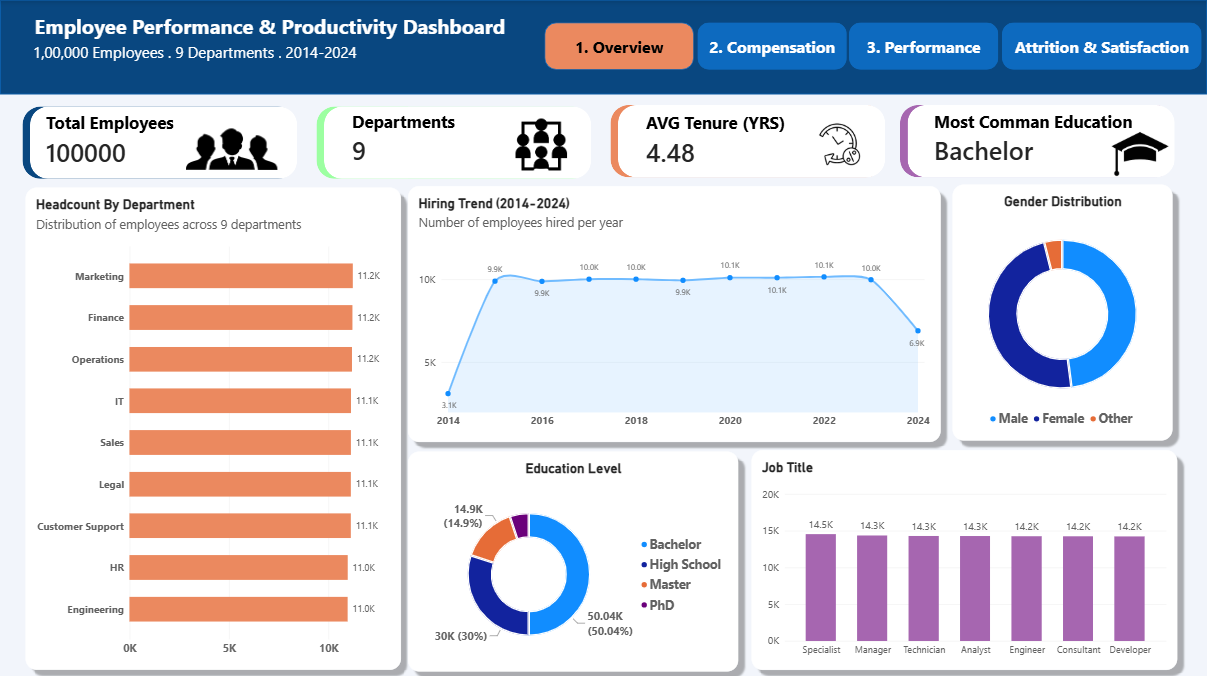

The dashboard page shown, as its layout file describes it:
{"tool":"powerbi","page":{"name":"Page 1","canvas":[1920,1080],"ordinal":0},"visuals":[{"type":"shape","box":[0,0,1920,150],"z":0},{"type":"shape","box":[35,168.9,435,115],"z":0,"group":"g1"},{"type":"textbox","box":[55,20,920,70],"z":1000},{"type":"shape","box":[47.5,168.9,425,115],"z":1000,"group":"g1"},{"type":"textbox","box":[52.5,67.5,827.5,80],"z":2000},{"type":"shape","box":[501.9,169.3,435,115],"z":2000,"group":"g1"},{"type":"shape","box":[866.2,35,237.5,75],"z":3000},{"type":"shape","box":[514.4,169.3,425,115],"z":3000,"group":"g1"},{"type":"shape","box":[1108.8,35,237.5,75],"z":4000},{"type":"shape","box":[969.5,167.5,435,115],"z":4000,"group":"g1"},{"type":"shape","box":[1351.2,35,237.5,75],"z":5000},{"type":"shape","box":[982.5,167.2,425,115],"z":5000,"group":"g1"},{"type":"shape","box":[1593.8,35,317.5,75],"z":6000},{"type":"shape","box":[1431.4,167.2,435,115],"z":6000,"group":"g1"},{"type":"group","id":"g1","title":"Group 1","box":[35,167.2,1833.9,117.1],"z":7000},{"type":"shape","box":[1443.9,167.2,425,115],"z":7000,"group":"g1"},{"type":"cardVisual","fields":{"Data":["Extended_Employee_Performance_and_Productivity_Data.Total Employees"]},"box":[57.5,147.5,365,150],"z":8000},{"type":"cardVisual","fields":{"Data":["Extended_Employee_Performance_and_Productivity_Data.Departments"]},"box":[545,145,365,150],"z":9000},{"type":"cardVisual","fields":{"Data":["Extended_Employee_Performance_and_Productivity_Data.AVG Tenure (YRS)"]},"box":[1012.5,147.5,365,150],"z":10000},{"type":"cardVisual","fields":{"Data":["Extended_Employee_Performance_and_Productivity_Data.Most Comman Education"]},"box":[1470,145,365,150],"z":11000},{"type":"image","box":[295,162.5,145,150],"z":12000},{"type":"image","box":[815,187.5,90,82.5],"z":13000},{"type":"image","box":[1270,190,132.5,77.5],"z":14000},{"type":"image","box":[1760,190,105,107.5],"z":15000},{"type":"barChart","title":"Headcount By Department","fields":{"Category":["Extended_Employee_Performance_and_Productivity_Data.Department"],"Y":["CountNonNull(Extended_Employee_Performance_and_Productivity_Data.Employee_ID)"]},"box":[40,297.5,597.5,767.5],"z":16000},{"type":"lineChart","title":"Hiring Trend (2014-2024)","fields":{"Category":["Extended_Employee_Performance_and_Productivity_Data.Hire_Date.Variation.Date Hierarchy.Year"],"Y":["CountNonNull(Extended_Employee_Performance_and_Productivity_Data.Employee_ID)"]},"box":[650,295,847.5,407.5],"z":17000},{"type":"donutChart","title":"Gender Distribution","fields":{"Category":["Extended_Employee_Performance_and_Productivity_Data.Gender"],"Y":["CountNonNull(Extended_Employee_Performance_and_Productivity_Data.Employee_ID)"]},"box":[1515,292.5,350,407.5],"z":18000},{"type":"donutChart","title":"Education Level","fields":{"Category":["Extended_Employee_Performance_and_Productivity_Data.Education_Level"],"Y":["CountNonNull(Extended_Employee_Performance_and_Productivity_Data.Employee_ID)"]},"box":[650,717.5,525,350],"z":19000},{"type":"columnChart","title":"Job Title","fields":{"Category":["Extended_Employee_Performance_and_Productivity_Data.Job_Title"],"Y":["CountNonNull(Extended_Employee_Performance_and_Productivity_Data.Employee_ID)"]},"box":[1195,715,677.5,350],"z":20000}]}

Visuals, with their boxes in screenshot pixels (x1, y1, x2, y2), scaled from the page's 1920x1080 canvas onto the 1207x676 screenshot:
shape: BBox(0, 0, 1206, 94)
shape: BBox(22, 106, 295, 178)
textbox: BBox(35, 13, 613, 56)
shape: BBox(30, 106, 297, 178)
textbox: BBox(33, 42, 553, 92)
shape: BBox(316, 106, 589, 178)
shape: BBox(545, 22, 694, 69)
shape: BBox(323, 106, 591, 178)
shape: BBox(697, 22, 846, 69)
shape: BBox(609, 105, 883, 177)
shape: BBox(849, 22, 999, 69)
shape: BBox(618, 105, 885, 177)
shape: BBox(1002, 22, 1202, 69)
shape: BBox(900, 105, 1173, 177)
"Group 1" group: BBox(22, 105, 1175, 178)
shape: BBox(908, 105, 1175, 177)
cardVisual - Extended_Employee_Performance_and_Productivity_Data.Total Employees: BBox(36, 92, 266, 186)
cardVisual - Extended_Employee_Performance_and_Productivity_Data.Departments: BBox(343, 91, 572, 185)
cardVisual - Extended_Employee_Performance_and_Productivity_Data.AVG Tenure (YRS): BBox(637, 92, 866, 186)
cardVisual - Extended_Employee_Performance_and_Productivity_Data.Most Comman Education: BBox(924, 91, 1154, 185)
image: BBox(185, 102, 277, 196)
image: BBox(512, 117, 569, 169)
image: BBox(798, 119, 882, 167)
image: BBox(1106, 119, 1172, 186)
"Headcount By Department" barChart: BBox(25, 186, 401, 667)
"Hiring Trend (2014-2024)" lineChart: BBox(409, 185, 941, 440)
"Gender Distribution" donutChart: BBox(952, 183, 1172, 438)
"Education Level" donutChart: BBox(409, 449, 739, 668)
"Job Title" columnChart: BBox(751, 448, 1177, 667)
